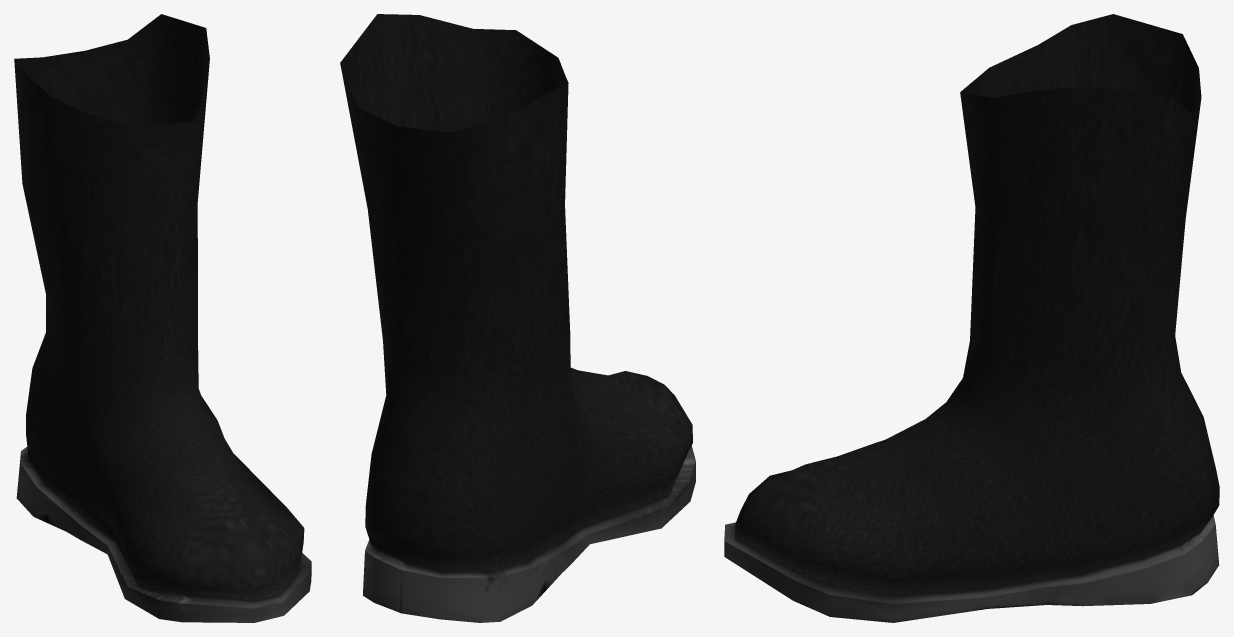
File: coboy_boot_kiri.FBX
3 views of the same model, side by side, from view 1: azimuth 30°, elevation 25°; view 2: azimuth 150°, elevation 25°; view 3: azimuth 270°, elevation 25° (orthographic). The views are drawn at different scales.
Parts seen in each view (by area): view 1: coboy_boot_kiri; view 2: coboy_boot_kiri; view 3: coboy_boot_kiri.
Part boxes in pixels (left/top/right/bottom): coboy_boot_kiri: left=14, top=14, right=311, bottom=622; coboy_boot_kiri: left=340, top=14, right=695, bottom=622; coboy_boot_kiri: left=724, top=14, right=1219, bottom=622.
Size of the model in its own units: 6.06 by 16.25 by 13.6.
